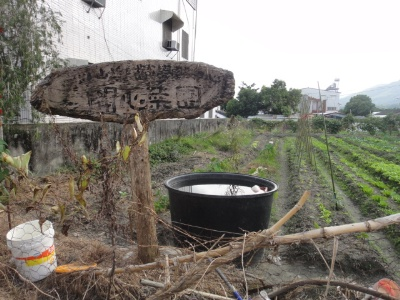bucket: (163, 171, 279, 269), (5, 218, 61, 283)
